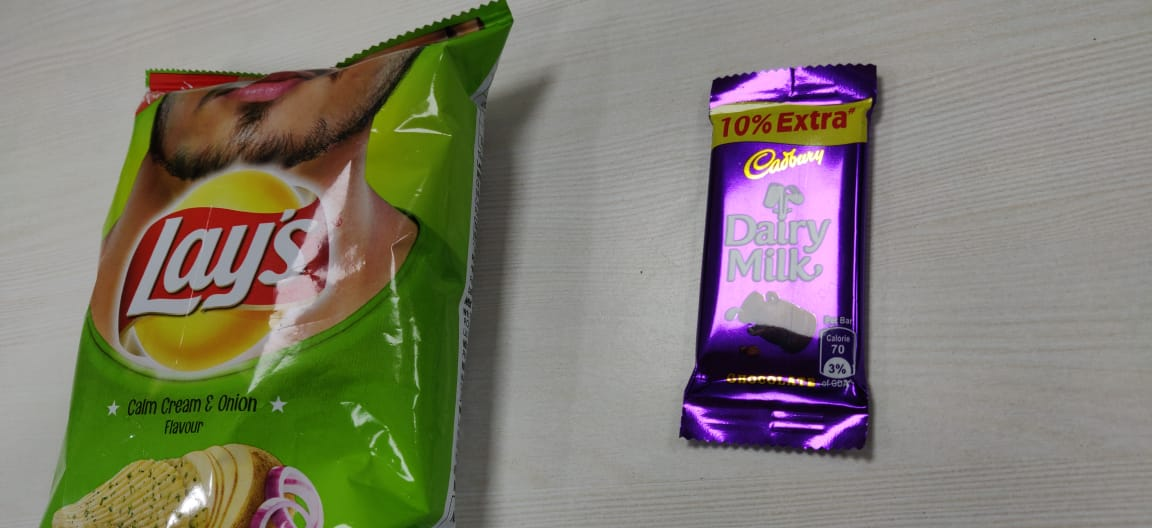dairy milk: (674, 52, 911, 470)
lays chips: (31, 1, 530, 528)
